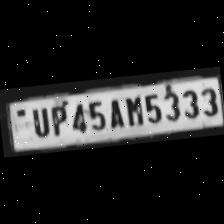3: (197, 83, 220, 119), (178, 86, 201, 120), (160, 88, 180, 122)
4: (66, 98, 88, 134)
5: (140, 90, 164, 124), (84, 97, 106, 133)
A: (104, 95, 124, 131)
M: (122, 93, 144, 129)
P: (46, 102, 68, 138)
U: (28, 104, 52, 139)
